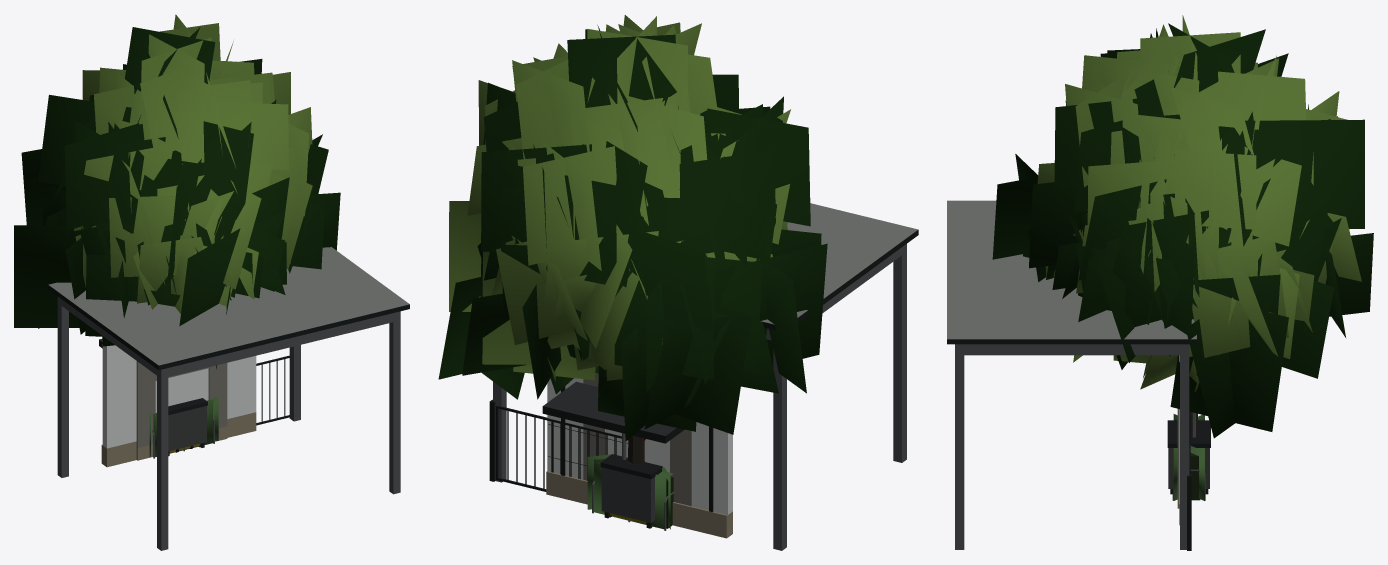
Rendered from yard-kit.glb.
3 views of the same model, side by side, from view 1: azimuth 30°, elevation 25°; view 2: azimuth 150°, elevation 25°; view 3: azimuth 270°, elevation 25° (orthographic). The views are drawn at different scales.
Parts seen in each view (by area): view 1: maple-a, lime-a, wash-canopy, maple-b, hall-wall-bay, hall-door-bay, office-bay, lime-b, bin-1100, hedge, fence-gate; view 2: maple-a, lime-a, maple-b, wash-canopy, hall-wall-bay, office-entrance, hall-door-bay, bin-1100, fence-gate, hedge, lime-b, fence-panel; view 3: maple-a, lime-a, wash-canopy, maple-b, lime-b, bin-1100, hedge.
Boxes of the visible parts, x1,y1,x2,y2 form: maple-a: (14, 27, 328, 369); lime-a: (74, 14, 312, 313); wash-canopy: (48, 247, 409, 550); maple-b: (38, 175, 340, 346); hall-wall-bay: (107, 346, 256, 464); hall-door-bay: (101, 344, 256, 467); office-bay: (137, 362, 227, 460); lime-b: (75, 119, 272, 309); bin-1100: (168, 398, 207, 456); hedge: (149, 396, 218, 457); fence-gate: (256, 355, 290, 425); maple-a: (438, 25, 827, 463); lime-a: (449, 15, 790, 381); maple-b: (462, 167, 778, 441); wash-canopy: (493, 203, 918, 550); hall-wall-bay: (547, 378, 727, 537); office-entrance: (542, 373, 691, 506); hall-door-bay: (546, 378, 732, 538); bin-1100: (600, 454, 662, 528); fence-gate: (489, 399, 621, 491); hedge: (587, 454, 673, 529); lime-b: (486, 133, 787, 380); fence-panel: (548, 421, 627, 480); maple-a: (992, 23, 1373, 438); lime-a: (1037, 15, 1361, 357); wash-canopy: (947, 200, 1196, 549); maple-b: (1052, 155, 1334, 378); lime-b: (1045, 144, 1299, 392); bin-1100: (1167, 420, 1210, 494); hedge: (1173, 414, 1204, 500).
Bounding box in the file's own units: 9.75 × 12.68 × 10.93.
Materials: 2 (2 with a texture image).
